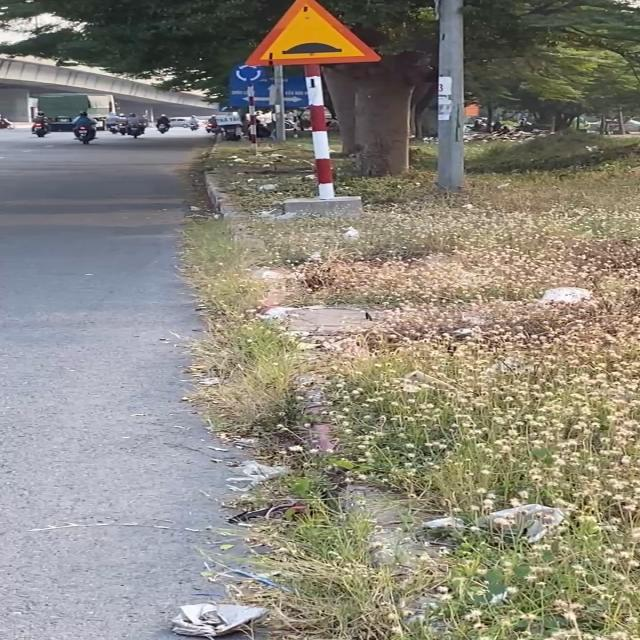221-duong-go-ghe: (240, 0, 384, 67)
303-noi-giao-nhau-chay-theo-vong-xuyen: (230, 63, 264, 83)
